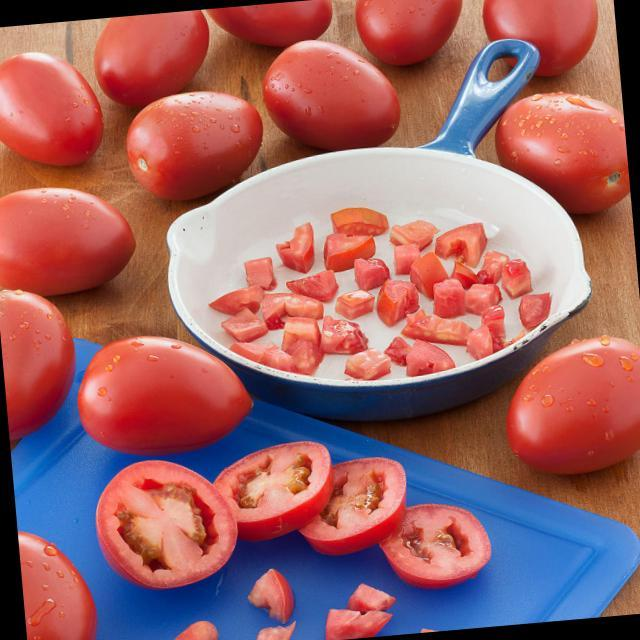TOMATO: (72, 328, 261, 461), (503, 334, 640, 479), (0, 176, 133, 315), (95, 456, 232, 590), (119, 77, 268, 199), (255, 30, 410, 147), (0, 267, 84, 446), (490, 84, 620, 198), (0, 41, 108, 178), (90, 10, 224, 105), (296, 448, 406, 558), (392, 485, 494, 594), (16, 520, 99, 640), (222, 447, 323, 544), (482, 0, 594, 83), (352, 0, 466, 65), (208, 0, 341, 51)
